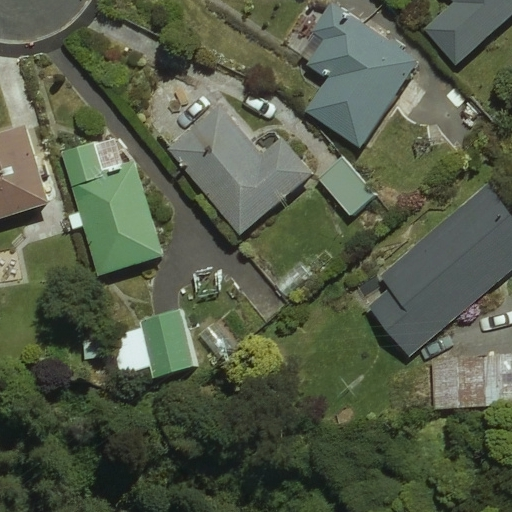TT: (213, 335, 232, 363)
